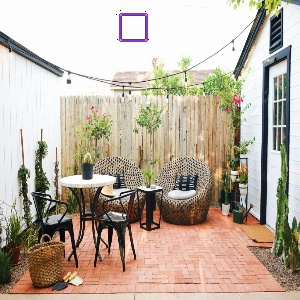square: (118, 12, 149, 42)
